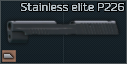P226 Stainless Elite pistol slide: (0, 0, 127, 64)
